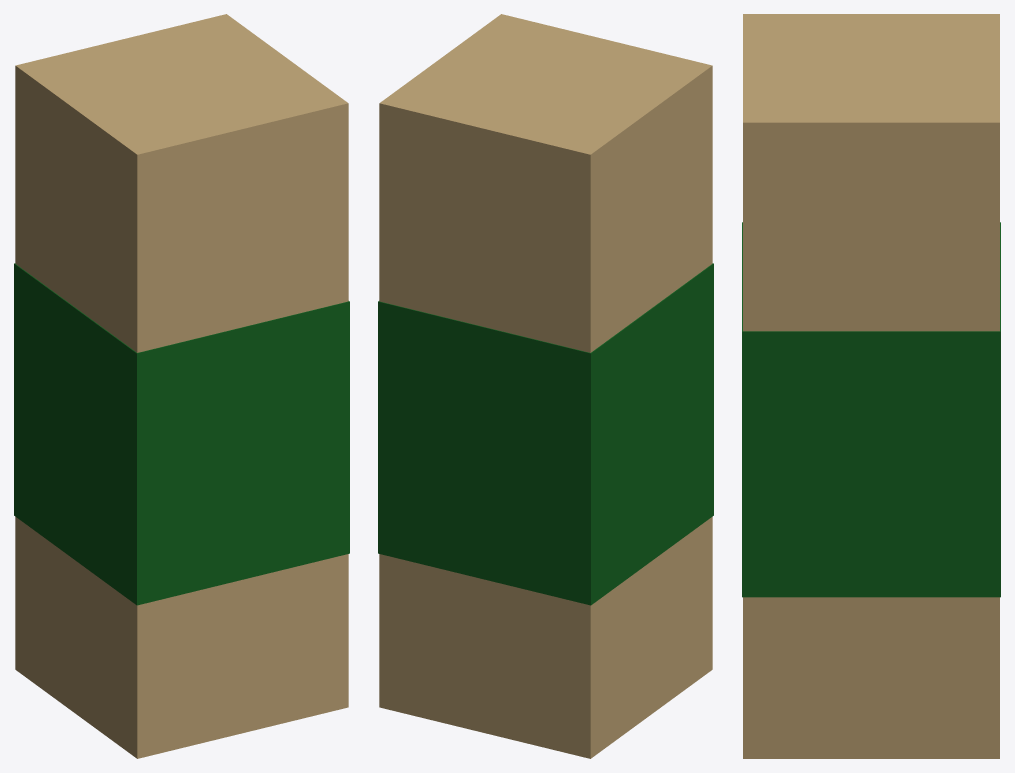
File: juice_carton.glb
3 views of the same model, side by side, from view 1: azimuth 30°, elevation 25°; view 2: azimuth 150°, elevation 25°; view 3: azimuth 270°, elevation 25° (orthographic). The views are drawn at different scales.
Visible parts, largest first — view 1: package:carton; view 2: package:carton; view 3: package:carton.
Boxes of the visible parts, left/top/right/bottom form: package:carton: left=14, top=14, right=349, bottom=758; package:carton: left=378, top=14, right=713, bottom=758; package:carton: left=742, top=14, right=1000, bottom=758.
Bounding box in the file's own units: 0.0756 × 0.205 × 0.0756.
